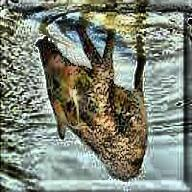boar: (36, 29, 184, 189)
